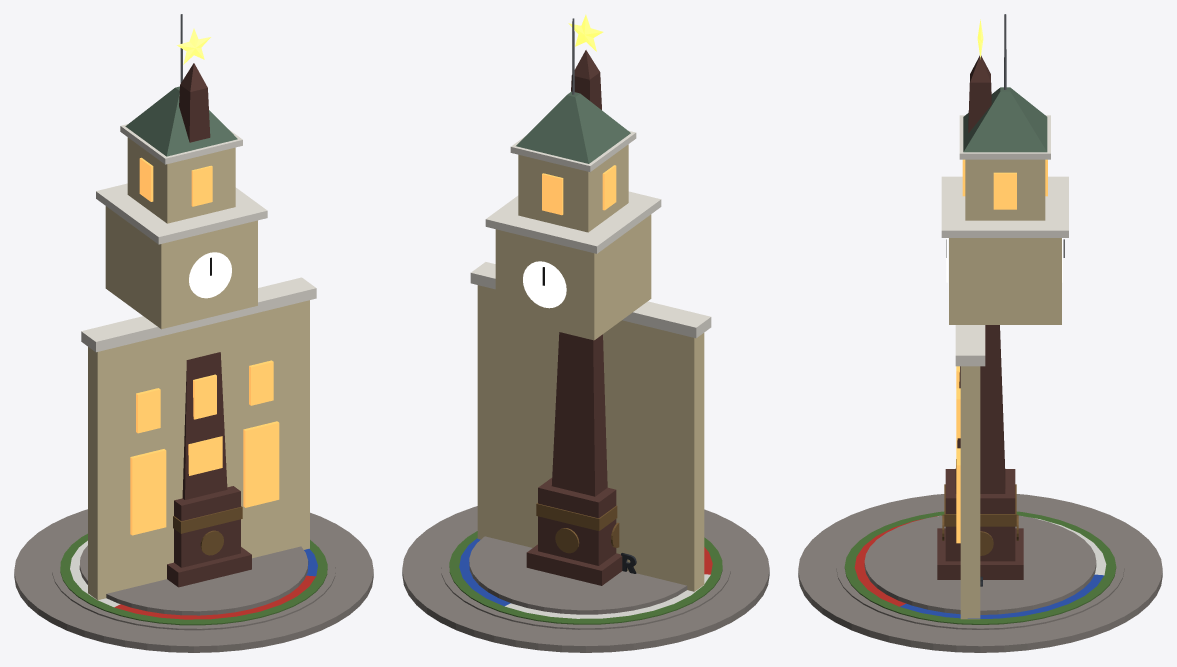
The model's file is landmarks.glb.
3 views of the same model, side by side, from view 1: azimuth 30°, elevation 25°; view 2: azimuth 150°, elevation 25°; view 3: azimuth 270°, elevation 25° (orthographic). The views are drawn at different scales.
Visible parts, largest first — view 1: risalit, platform, tier1, step, tier2, shaft, tier1Cornice, cornice, pedestal, roof, arch0, arch2 (+14 smaller); view 2: risalit, platform, tier1, shaft, step, tier2, roof, tier1Cornice, pedestal, bedEdge, curb, cornice (+8 smaller); view 3: platform, step, tier1, risalit, shaft, tier1Cornice, tier2, roof, bedEdge, curb, pedestal, plinth.002 (+6 smaller).
Part boxes in pixels (x1,y1,x2,y2): risalit: [88, 300, 309, 600]; platform: [14, 509, 373, 652]; tier1: [105, 206, 257, 329]; step: [79, 545, 308, 615]; tier2: [127, 137, 235, 223]; shaft: [179, 85, 227, 499]; tier1Cornice: [96, 183, 267, 244]; cornice: [81, 277, 316, 352]; pedestal: [174, 486, 240, 567]; roof: [125, 86, 237, 156]; arch0: [130, 449, 166, 535]; arch2: [243, 421, 279, 507]; risalit: [477, 285, 704, 591]; platform: [402, 506, 769, 652]; tier1: [495, 214, 651, 340]; shaft: [551, 72, 607, 496]; step: [469, 536, 687, 614]; tier2: [518, 144, 628, 232]; roof: [516, 91, 630, 163]; tier1Cornice: [485, 191, 661, 253]; pedestal: [538, 477, 616, 565]; bedEdge: [449, 531, 722, 624]; curb: [441, 526, 730, 629]; cornice: [470, 262, 711, 338]; platform: [798, 494, 1162, 652]; step: [864, 515, 1096, 614]; tier1: [949, 238, 1061, 324]; risalit: [960, 366, 980, 619]; shaft: [955, 82, 1005, 493]; tier1Cornice: [941, 176, 1068, 237]; tier2: [965, 159, 1045, 220]; roof: [963, 87, 1047, 152]; bedEdge: [844, 511, 1116, 624]; curb: [836, 509, 1124, 629]; pedestal: [945, 469, 1015, 561]; plinth.002: [937, 528, 1023, 579].
Bounding box in the file's own units: 22 × 37.4 × 22.
